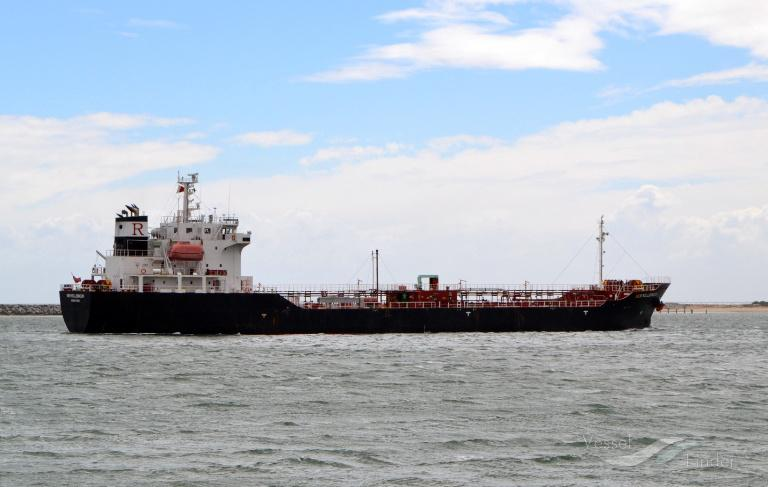OCR: (64, 292, 86, 305)
